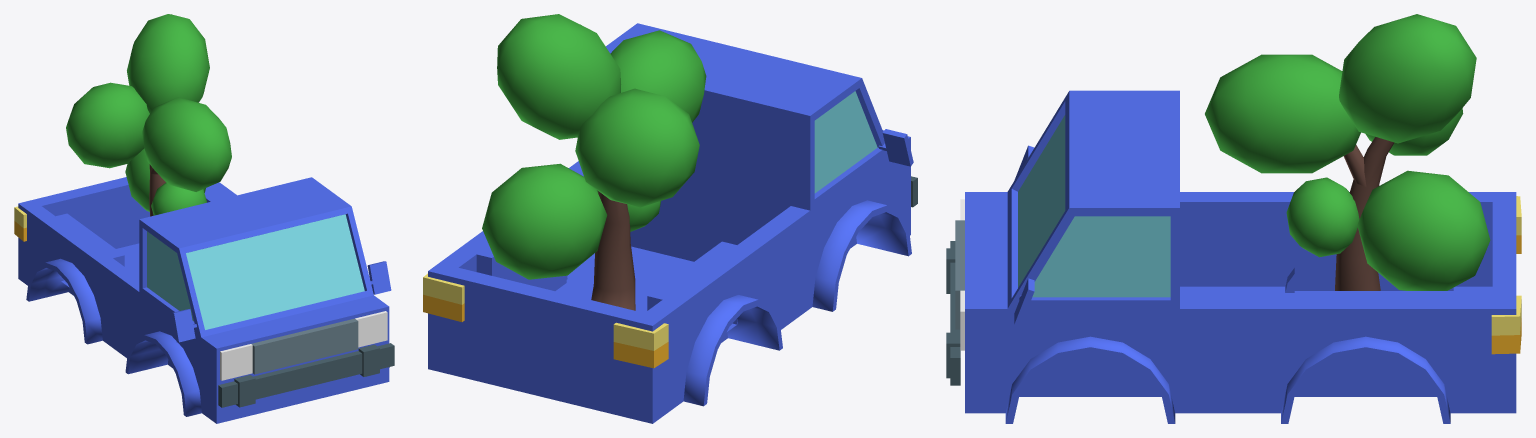
The model's file is blue_car_new.fbx.
3 views of the same model, side by side, from view 1: azimuth 30°, elevation 25°; view 2: azimuth 150°, elevation 25°; view 3: azimuth 270°, elevation 25° (orthographic). The views are drawn at different scales.
Visible parts, largest first — view 1: blue_car; view 2: blue_car; view 3: blue_car.
Part boxes in pixels (x1=…): blue_car: x1=14, y1=14, x2=394, y2=423; blue_car: x1=423, y1=14, x2=917, y2=423; blue_car: x1=946, y1=14, x2=1521, y2=423.
Size of the model in its own units: 366 by 425 by 619.
